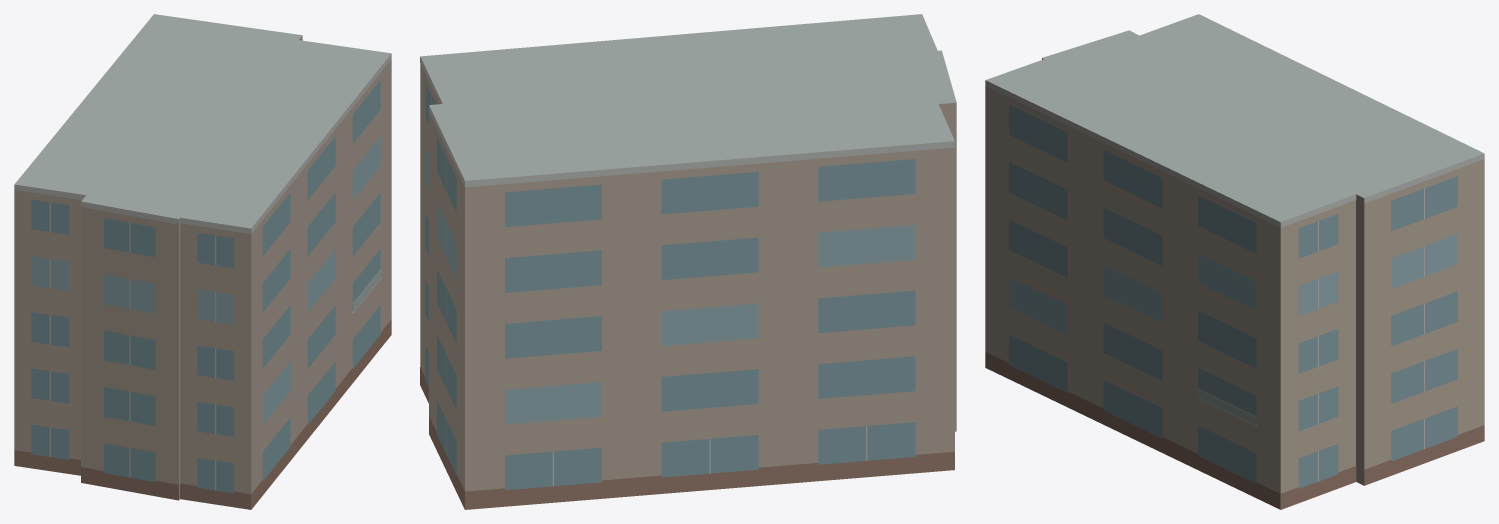
The model's file is survey-upis-32677226.glb.
3 renders of one model, left to right at view 1: azimuth 30°, elevation 25°; view 2: azimuth 150°, elevation 25°; view 3: azimuth 270°, elevation 25°, orthographic. The views are drawn at different scales.
Visible parts, largest first — view 1: survey-upis-32677226.tmp; view 2: survey-upis-32677226.tmp; view 3: survey-upis-32677226.tmp.
Part boxes in pixels (bbox=[...]): survey-upis-32677226.tmp: bbox=[14, 14, 391, 509]; survey-upis-32677226.tmp: bbox=[420, 14, 956, 509]; survey-upis-32677226.tmp: bbox=[985, 14, 1484, 509].
Bounding box in the file's own units: 19.42 × 12.5 × 19.67.
